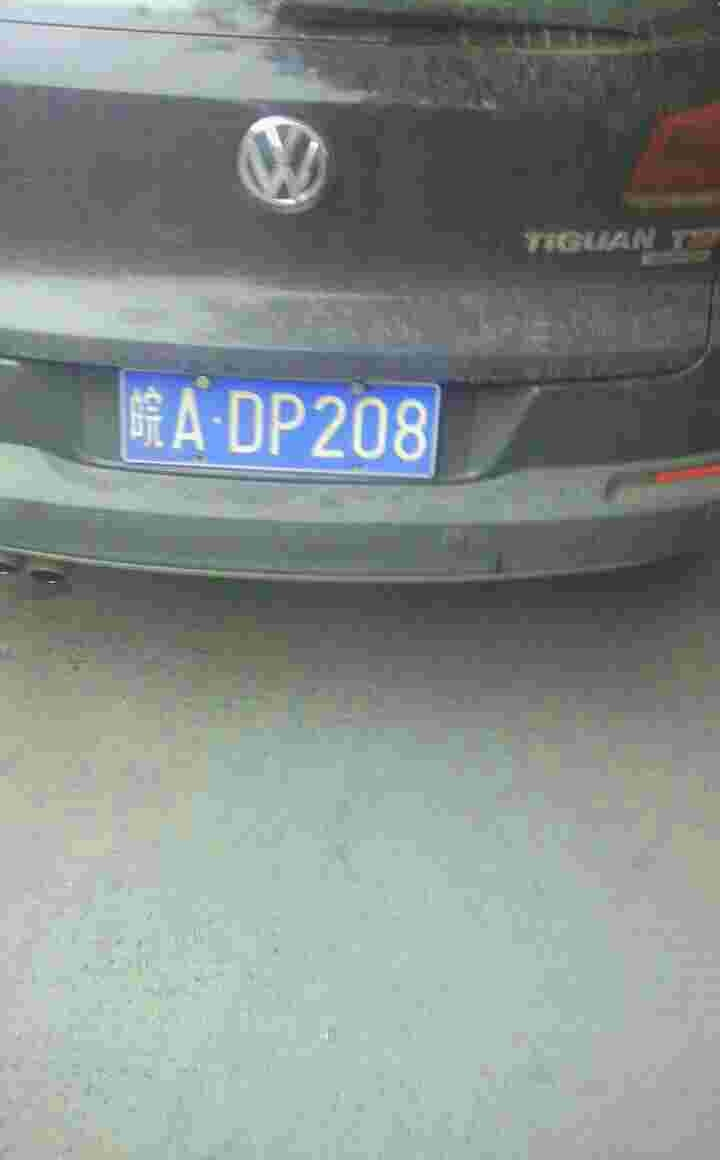license_plate: (110, 366, 439, 479)
